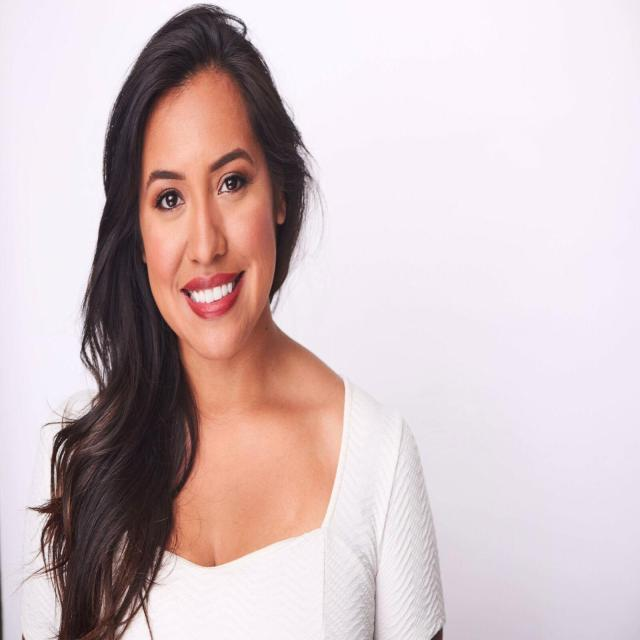mobile_phonerotation: (16, 2, 447, 638)
